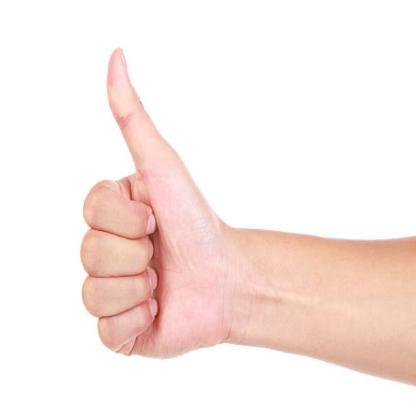thumb_up: (76, 42, 224, 360)
